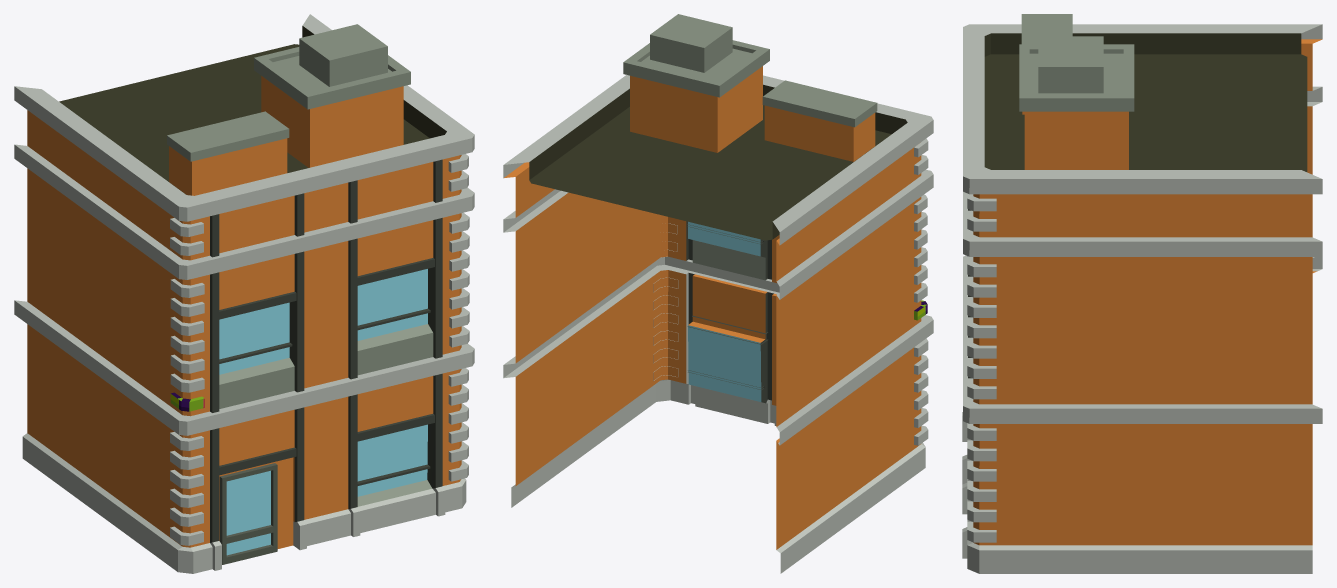
File: House6.fbx
3 renders of one model, left to right at view 1: azimuth 30°, elevation 25°; view 2: azimuth 150°, elevation 25°; view 3: azimuth 270°, elevation 25°, orthographic. The views are drawn at different scales.
Visible parts, largest first — view 1: House1.006; view 2: House1.006; view 3: House1.006.
Boxes of the visible parts, box(x1,y1,x2,y2) form: House1.006: box(14, 14, 474, 573); House1.006: box(503, 14, 933, 573); House1.006: box(962, 14, 1322, 573).
Size of the model in its own units: 795 by 1150 by 782.
1 material, 1 textured.
